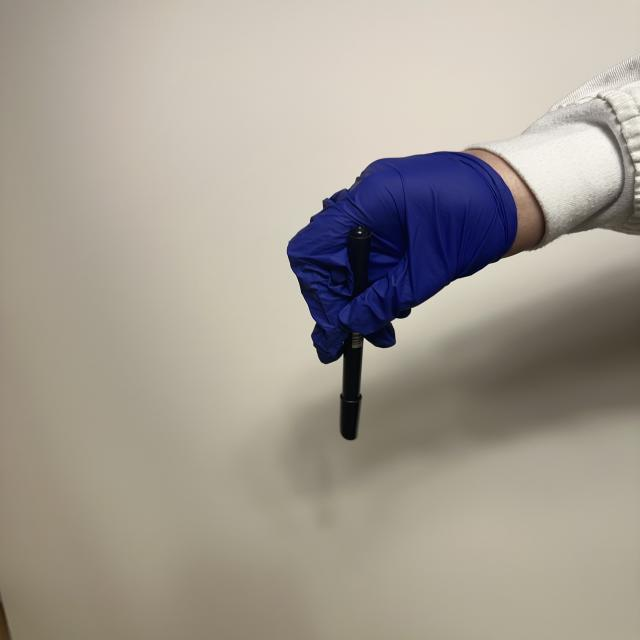glove_partial: (287, 144, 559, 362)
